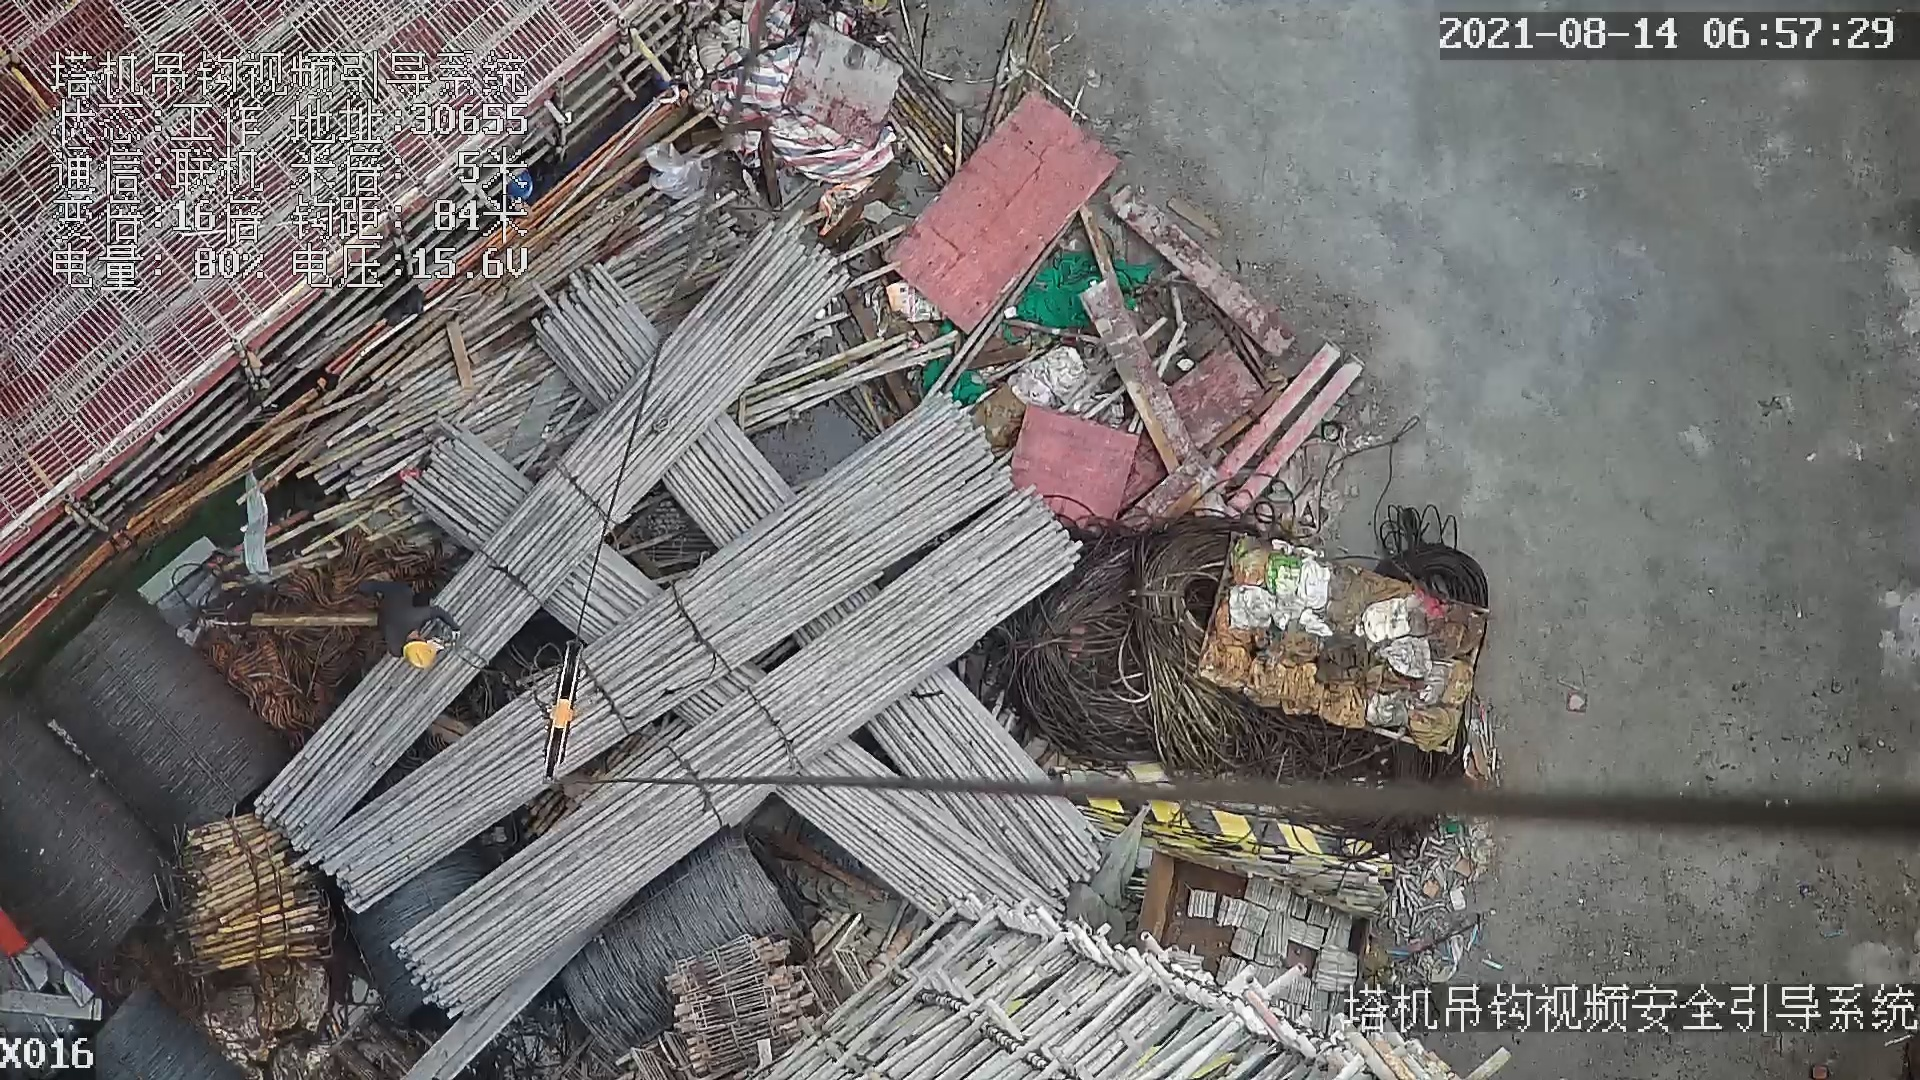helmet: (402, 641, 434, 668)
hook: (540, 637, 579, 791)
person: (358, 581, 465, 669)
rebar: (254, 222, 851, 851), (309, 388, 1017, 915), (389, 489, 1081, 1023), (774, 739, 1061, 931), (867, 666, 1102, 895)
wood: (178, 812, 336, 966)
